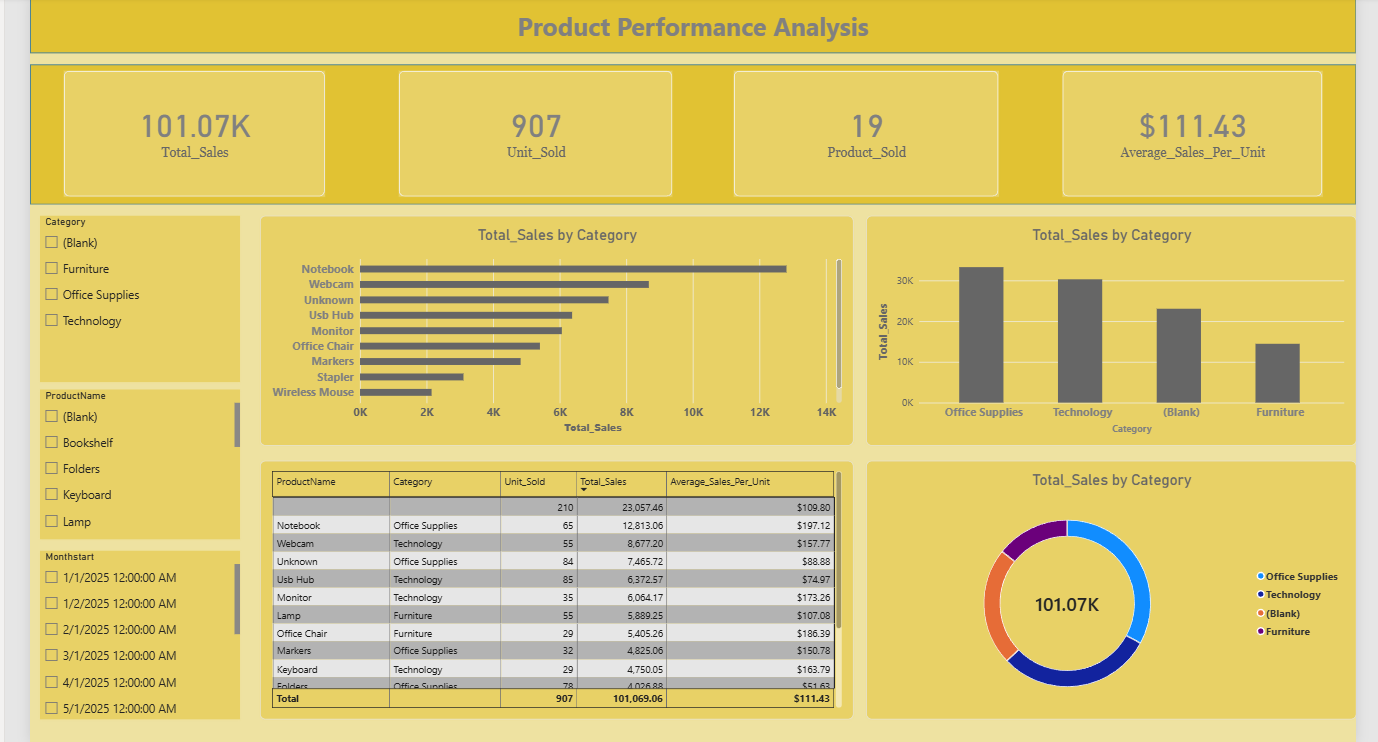

This screenshot's page, from the dashboard's own definition file:
{"tool":"powerbi","page":{"name":"Product Performance Analysis","canvas":[1920,1080],"ordinal":2},"visuals":[{"type":"shape","box":[0,0,1920.1,81.4],"z":0},{"type":"shape","box":[0,97.7,1920.1,202.7],"z":1},{"type":"cardVisual","fields":{"Data":["fact_Orders.Total_Sales"]},"box":[48.9,106.8,378.2,182.8],"z":2},{"type":"cardVisual","fields":{"Data":["fact_Orders.Unit_Sold"]},"box":[533.8,106.8,396.3,182.8],"z":3},{"type":"cardVisual","fields":{"Data":["dim_Products.Product_Sold"]},"box":[1018.8,106.8,383.6,182.8],"z":4},{"type":"cardVisual","fields":{"Data":["dim_Products.Average_Sales_Per_Unit"]},"box":[1494.8,106.8,376.4,182.8],"z":5},{"type":"clusteredColumnChart","title":"Total_Sales by Category","fields":{"Category":["dim_Products.Category"],"Y":["fact_Orders.Total_Sales"]},"box":[1210.7,316.7,709.4,333],"z":6},{"type":"clusteredBarChart","title":"Total_Sales by Category","fields":{"Category":["dim_Products.ProductName"],"Y":["fact_Orders.Total_Sales"]},"box":[333,316.7,859.6,333],"z":7},{"type":"donutChart","title":"Total_Sales by Category","fields":{"Category":["dim_Products.Category"],"Y":["fact_Orders.Total_Sales"]},"box":[1210.7,671.4,709.4,374.6],"z":8},{"type":"tableEx","title":"Total_Sales by Category","fields":{"Values":["dim_Products.ProductName","dim_Products.Category","fact_Orders.Unit_Sold","fact_Orders.Total_Sales","dim_Products.Average_Sales_Per_Unit"]},"box":[333,671.4,859.6,374.6],"z":9},{"type":"slicer","title":"Total_Sales by Category","fields":{"Values":["dim_Products.Category"]},"box":[14.5,316.7,289.5,240.7],"z":10},{"type":"slicer","title":"Total_Sales by Category","fields":{"Values":["dim_month.monthstart"]},"box":[14.5,801.7,289.5,244.3],"z":13},{"type":"slicer","title":"Total_Sales by Category","fields":{"Values":["dim_Products.ProductName"]},"box":[14.5,568.2,289.5,217.2],"z":14}]}

Visuals, with their boxes on the page's 1920x1080 design canvas (x1, y1, x2, y2). These are canvas units, not pixel positions in the 1378x742 screenshot, which may show the page scaled, cropped or inside an application window:
shape: {"left": 0, "top": 0, "right": 1920, "bottom": 81}
shape: {"left": 0, "top": 98, "right": 1920, "bottom": 300}
cardVisual - fact_Orders.Total_Sales: {"left": 49, "top": 107, "right": 427, "bottom": 290}
cardVisual - fact_Orders.Unit_Sold: {"left": 534, "top": 107, "right": 930, "bottom": 290}
cardVisual - dim_Products.Product_Sold: {"left": 1019, "top": 107, "right": 1402, "bottom": 290}
cardVisual - dim_Products.Average_Sales_Per_Unit: {"left": 1495, "top": 107, "right": 1871, "bottom": 290}
"Total_Sales by Category" clusteredColumnChart: {"left": 1211, "top": 317, "right": 1920, "bottom": 650}
"Total_Sales by Category" clusteredBarChart: {"left": 333, "top": 317, "right": 1193, "bottom": 650}
"Total_Sales by Category" donutChart: {"left": 1211, "top": 671, "right": 1920, "bottom": 1046}
"Total_Sales by Category" tableEx: {"left": 333, "top": 671, "right": 1193, "bottom": 1046}
"Total_Sales by Category" slicer: {"left": 14, "top": 317, "right": 304, "bottom": 557}
"Total_Sales by Category" slicer: {"left": 14, "top": 802, "right": 304, "bottom": 1046}
"Total_Sales by Category" slicer: {"left": 14, "top": 568, "right": 304, "bottom": 785}
